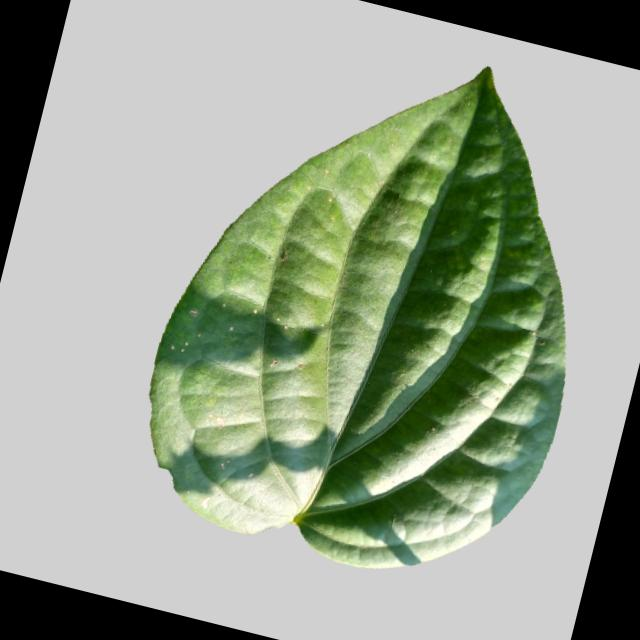healthy: (107, 0, 640, 619)
